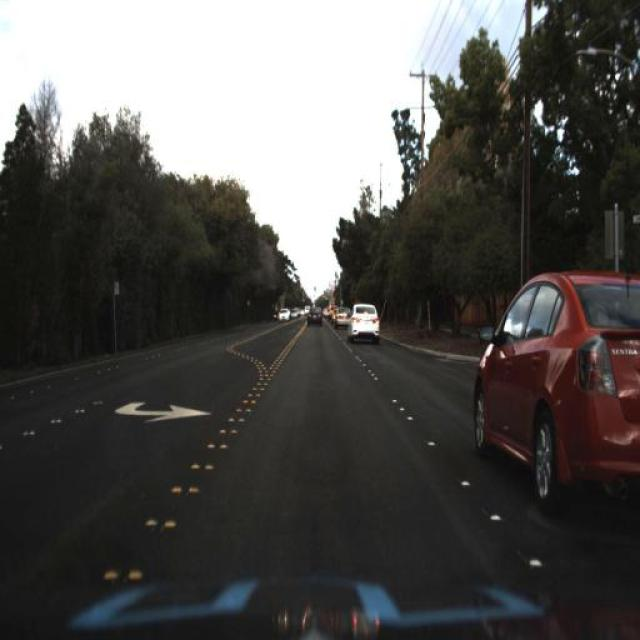car: (470, 269, 636, 513), (344, 299, 384, 345), (329, 300, 353, 330), (304, 302, 324, 331), (275, 302, 295, 326)
